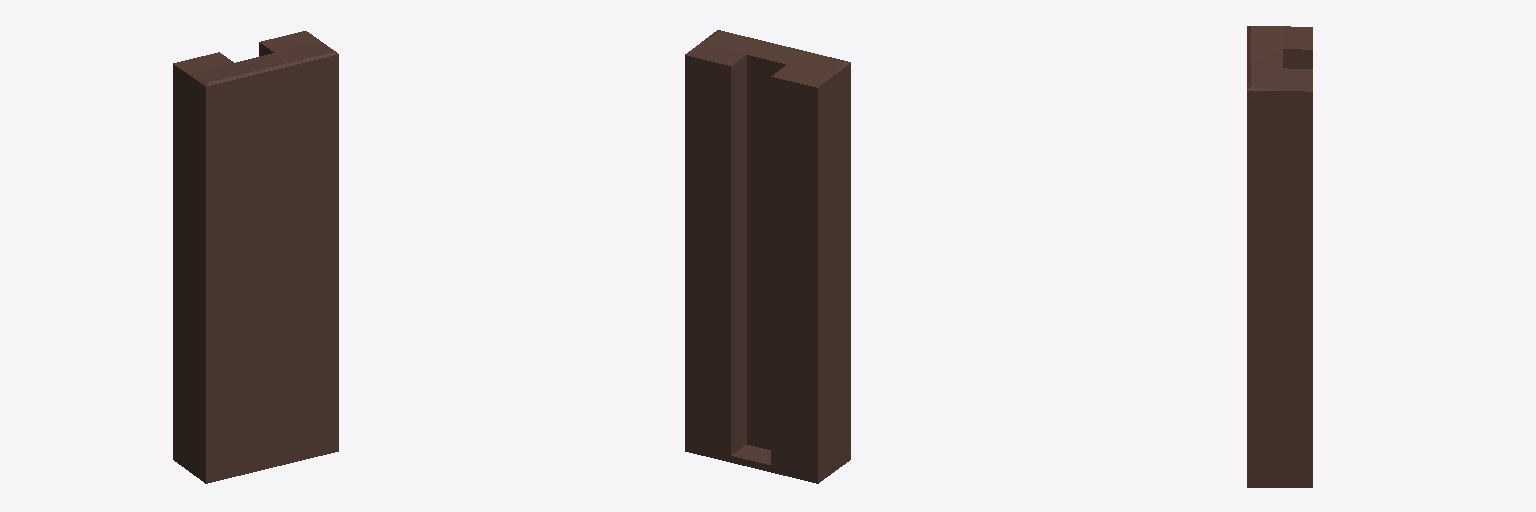
File: Pit.obj
The picture shows the model from 3 angles: view 1: azimuth 30°, elevation 25°; view 2: azimuth 150°, elevation 25°; view 3: azimuth 270°, elevation 25°; orthographic projection.
Parts seen in each view (by area): view 1: Pit; view 2: Pit; view 3: Pit.
Boxes of the visible parts, <box> form: Pit: <box>173,31,338,483</box>; Pit: <box>685,30,850,483</box>; Pit: <box>1247,26,1312,487</box>.
Bounding box in the file's own units: 20 × 57.17 × 8.66.